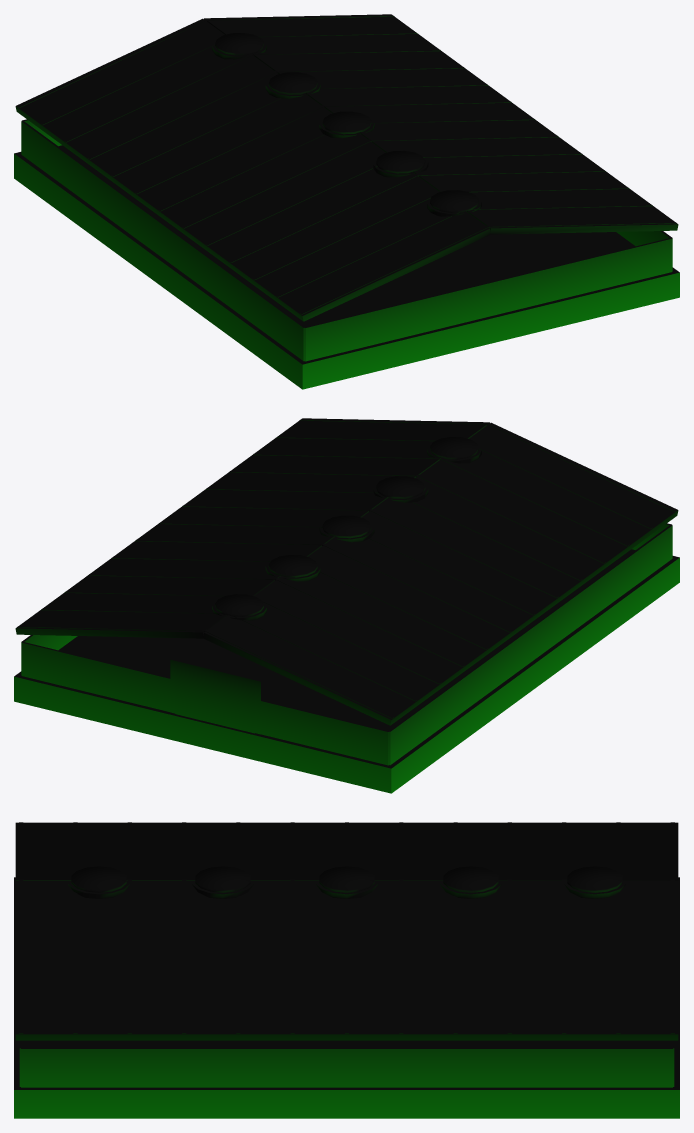
Rendered from greenhouse.glb.
3 renders of one model, top to bottom at view 1: azimuth 30°, elevation 25°; view 2: azimuth 150°, elevation 25°; view 3: azimuth 270°, elevation 25°, orthographic. The views are drawn at different scales.
Visible parts, largest first — view 1: lod0; view 2: lod0; view 3: lod0.
Part boxes in pixels (<box>): lod0: <box>14,14,679,389</box>; lod0: <box>14,418,679,793</box>; lod0: <box>14,822,679,1118</box>.
Size of what is drawn, in the model's own units: 14.2 by 4.18 by 18.8.
